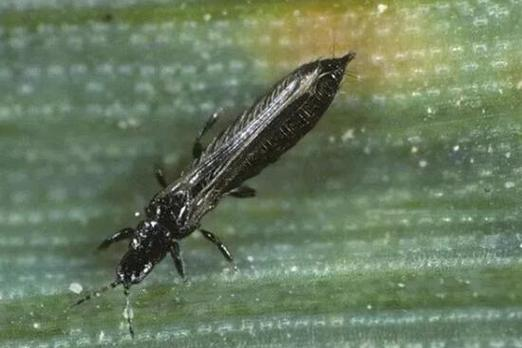Phlaeothripidae: (69, 42, 367, 340)
